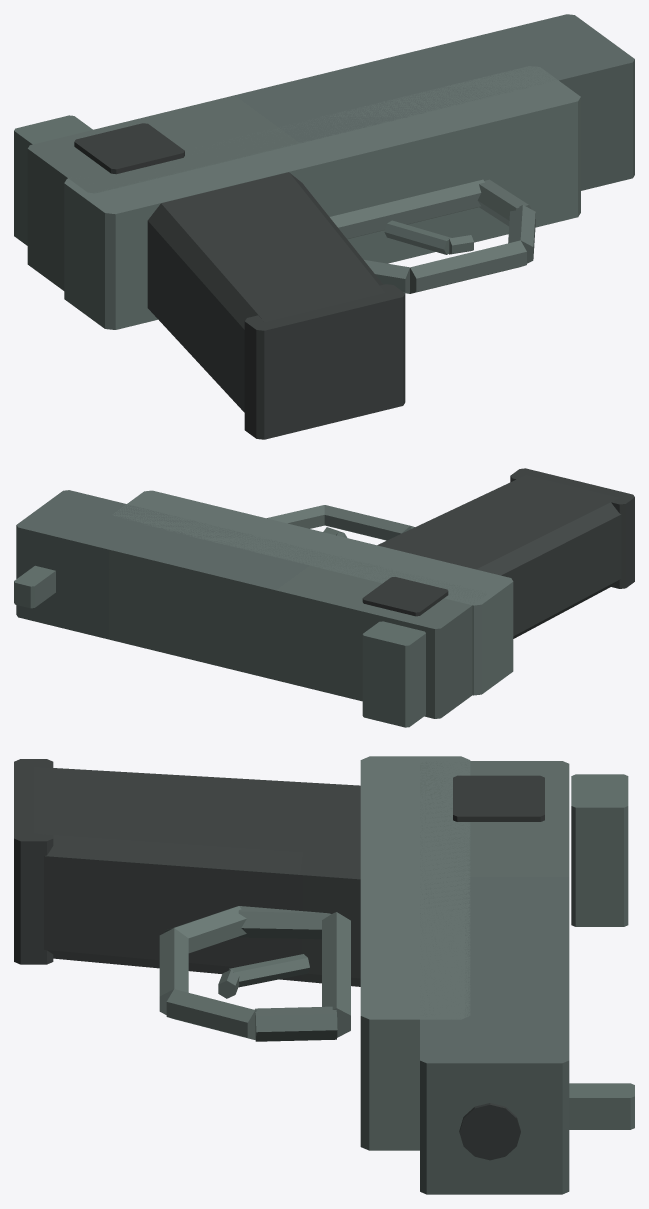
Rendered from weapon-glock-26.glb.
The picture shows the model from 3 angles, top to bottom: view 1: azimuth 30°, elevation 25°; view 2: azimuth 150°, elevation 25°; view 3: azimuth 270°, elevation 25°; orthographic projection. The views are drawn at different scales.
Parts seen in each view (by area): view 1: weapon-glock-26/lower-frame, weapon-glock-26/flat-slide, weapon-glock-26/eight-sided-grip, weapon-glock-26/eight-sided-grip-heel, weapon-glock-26/hollow-trigger-guard-1, weapon-glock-26/slide-rear-serrations-left, weapon-glock-26/hollow-trigger-guard-4, weapon-glock-26/rear-sight, weapon-glock-26/hollow-trigger-guard-trigger-1, weapon-glock-26/hollow-trigger-guard-2, weapon-glock-26/hollow-trigger-guard-3, weapon-glock-26/hollow-trigger-guard-5; view 2: weapon-glock-26/flat-slide, weapon-glock-26/eight-sided-grip, weapon-glock-26/lower-frame, weapon-glock-26/rear-sight, weapon-glock-26/eight-sided-grip-heel, weapon-glock-26/slide-rear-serrations-left, weapon-glock-26/hollow-trigger-guard-4, weapon-glock-26/front-sight, weapon-glock-26/hollow-trigger-guard-3; view 3: weapon-glock-26/eight-sided-grip, weapon-glock-26/flat-slide, weapon-glock-26/lower-frame, weapon-glock-26/rear-sight, weapon-glock-26/eight-sided-grip-heel, weapon-glock-26/slide-rear-serrations-left, weapon-glock-26/front-sight, weapon-glock-26/hollow-trigger-guard-1, weapon-glock-26/hollow-trigger-guard-2, weapon-glock-26/muzzle-dark-disc, weapon-glock-26/hollow-trigger-guard-3, weapon-glock-26/hollow-trigger-guard-6 (+3 smaller).
Part boxes in pixels (x1,y1,x2,y2): weapon-glock-26/lower-frame: (64, 66, 580, 329); weapon-glock-26/flat-slide: (27, 14, 634, 290); weapon-glock-26/eight-sided-grip: (147, 172, 384, 412); weapon-glock-26/eight-sided-grip-heel: (244, 284, 405, 439); weapon-glock-26/hollow-trigger-guard-1: (330, 179, 484, 239); weapon-glock-26/slide-rear-serrations-left: (74, 123, 184, 174); weapon-glock-26/hollow-trigger-guard-4: (410, 240, 526, 293); weapon-glock-26/rear-sight: (14, 115, 92, 245); weapon-glock-26/hollow-trigger-guard-trigger-1: (384, 220, 450, 254); weapon-glock-26/hollow-trigger-guard-2: (477, 179, 531, 226); weapon-glock-26/hollow-trigger-guard-3: (508, 205, 535, 263); weapon-glock-26/hollow-trigger-guard-5: (364, 260, 409, 293); weapon-glock-26/flat-slide: (16, 490, 486, 718); weapon-glock-26/eight-sided-grip: (377, 475, 621, 638); weapon-glock-26/lower-frame: (112, 490, 513, 695); weapon-glock-26/rear-sight: (362, 621, 425, 727); weapon-glock-26/eight-sided-grip-heel: (510, 468, 634, 588); weapon-glock-26/slide-rear-serrations-left: (362, 577, 448, 616); weapon-glock-26/hollow-trigger-guard-4: (324, 505, 414, 540); weapon-glock-26/front-sight: (14, 565, 55, 608); weapon-glock-26/hollow-trigger-guard-3: (267, 505, 324, 528); weapon-glock-26/eight-sided-grip: (33, 767, 360, 986); weapon-glock-26/flat-slide: (420, 761, 569, 1194); weapon-glock-26/lower-frame: (360, 756, 470, 1150); weapon-glock-26/rear-sight: (571, 774, 628, 926); weapon-glock-26/eight-sided-grip-heel: (14, 759, 53, 964); weapon-glock-26/slide-rear-serrations-left: (453, 775, 544, 821); weapon-glock-26/front-sight: (569, 1083, 634, 1129); weapon-glock-26/hollow-trigger-guard-1: (322, 912, 350, 1037); weapon-glock-26/hollow-trigger-guard-2: (255, 1006, 337, 1041); weapon-glock-26/muzzle-dark-disc: (459, 1103, 520, 1160); weapon-glock-26/hollow-trigger-guard-3: (166, 989, 256, 1039); weapon-glock-26/hollow-trigger-guard-6: (238, 906, 330, 939).
Bounding box in the file's own units: 0.1682 × 0.0358 × 0.1415.
2 materials, 2 textured.
